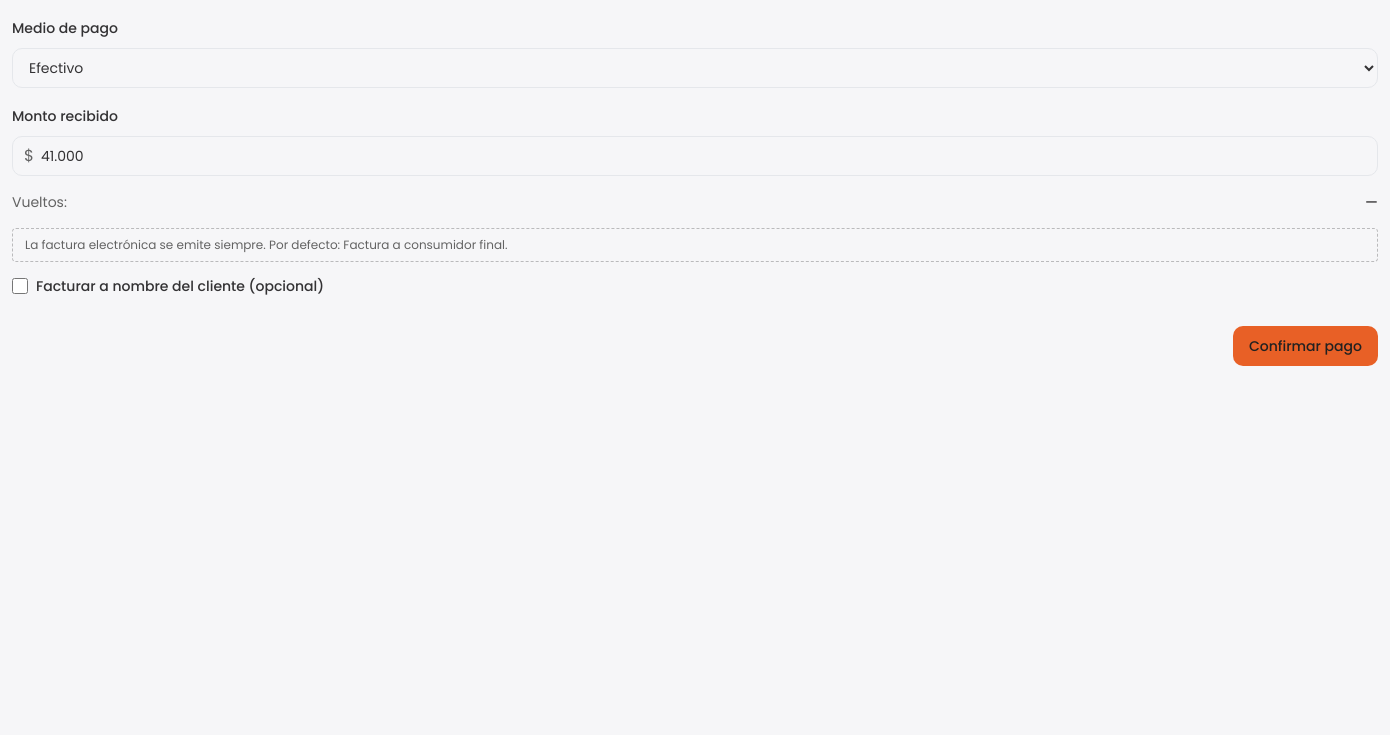
Test case: <PagoModal /> — REQ-OPS-167 (FE consumidor final + validarNitModulo11) › M8 (persona/empresa): checkbox marcado arranca en "empresa"/NIT sin ningún valor precargado (solo placeholder)
Click the checkbox with test id "pago-fe-toggle".
click(20, 286)  # box [12,278,28,294]
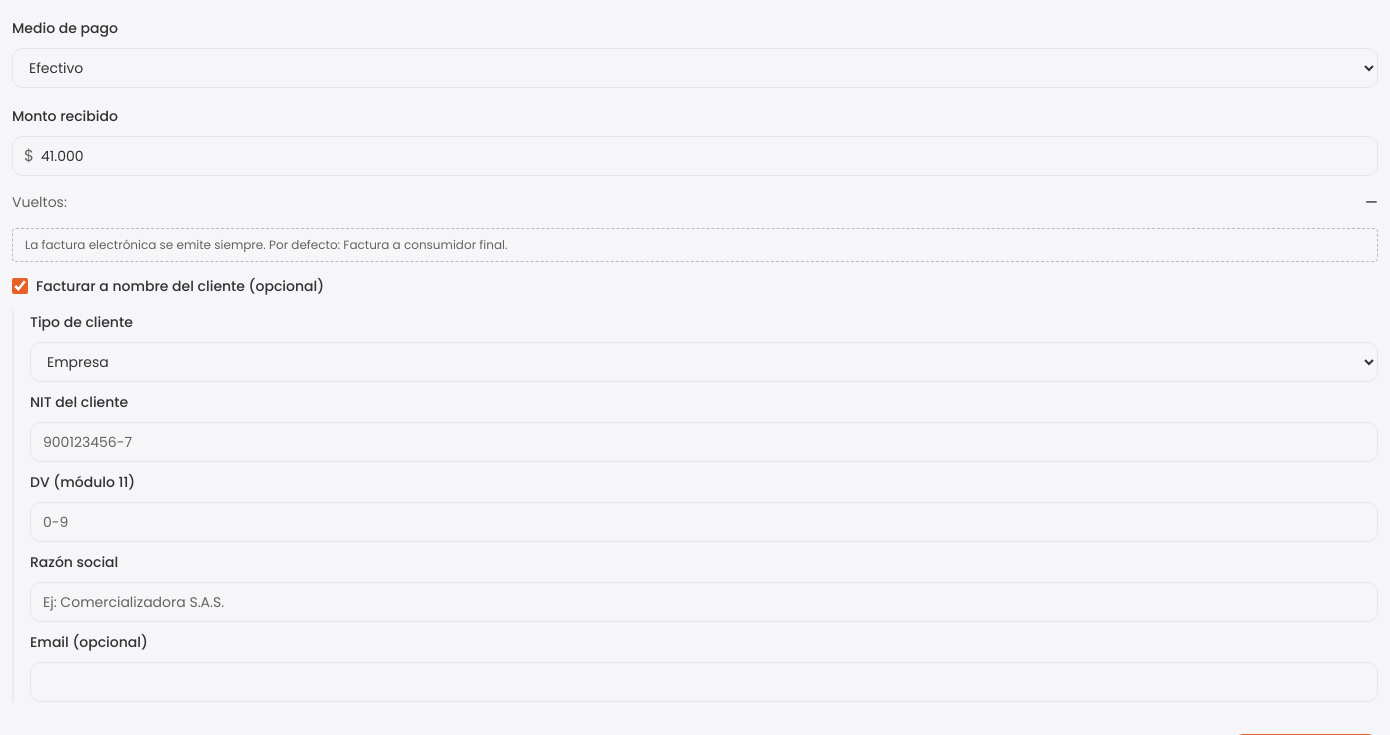
Expected: the dropdown with test id "pago-tipo-persona" shows "Empresa", [30,342,1378,382]
Expected: the field with test id "pago-nit" is empty, [30,422,1378,462]
Expected: the field with test id "pago-fe-nombre" is empty, [30,582,1378,622]
